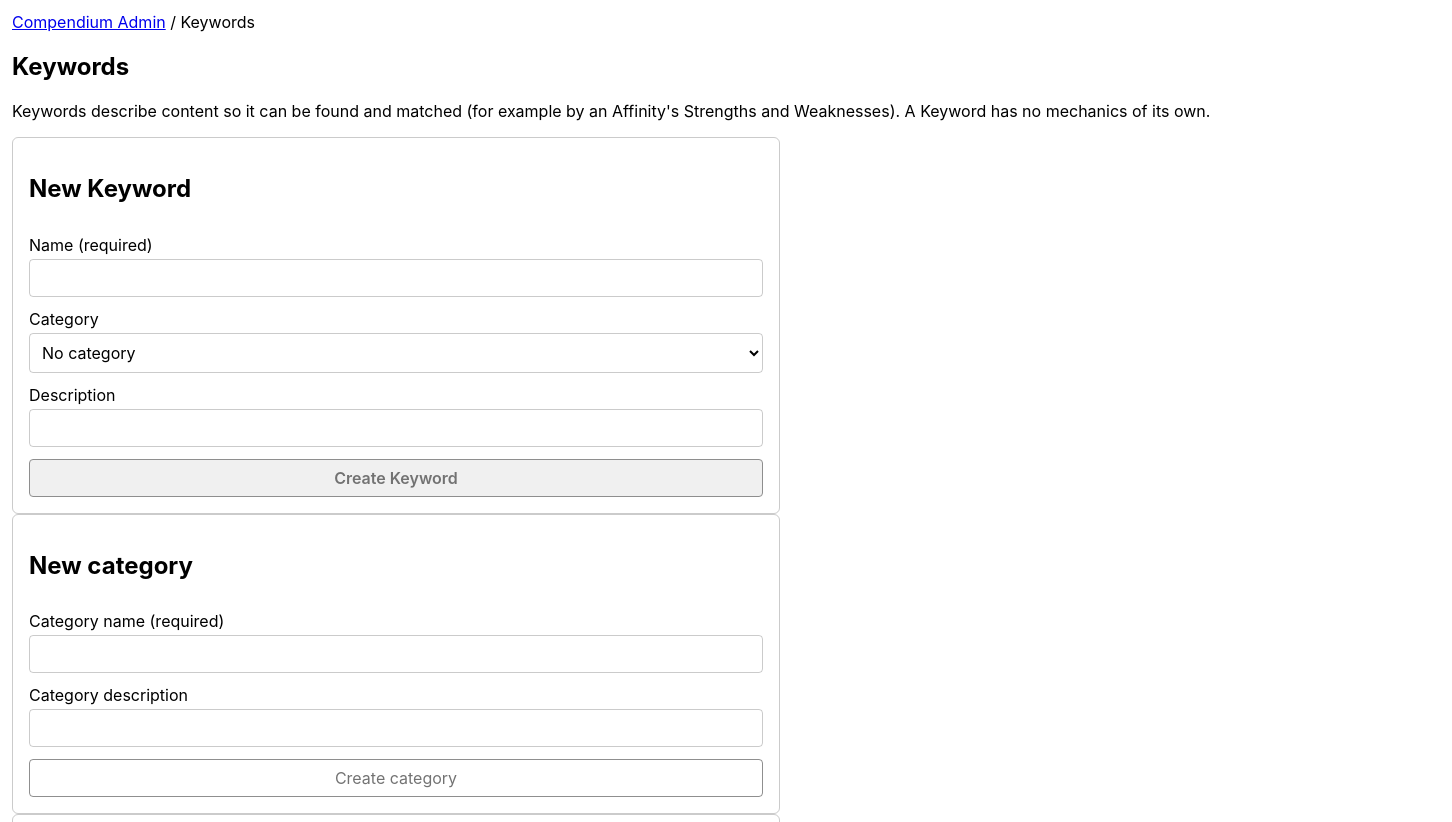
Test: RULES-WO1 Phase C — reference previews and Keywords › shows the Keyword's permanent key before it is created (never set silently, never typed)
This screenshot has width=1452, height=822.
Step 1. Type "Cold Iron" into the field labelled "Name (required)" → (396, 278), box [29,259,763,297]
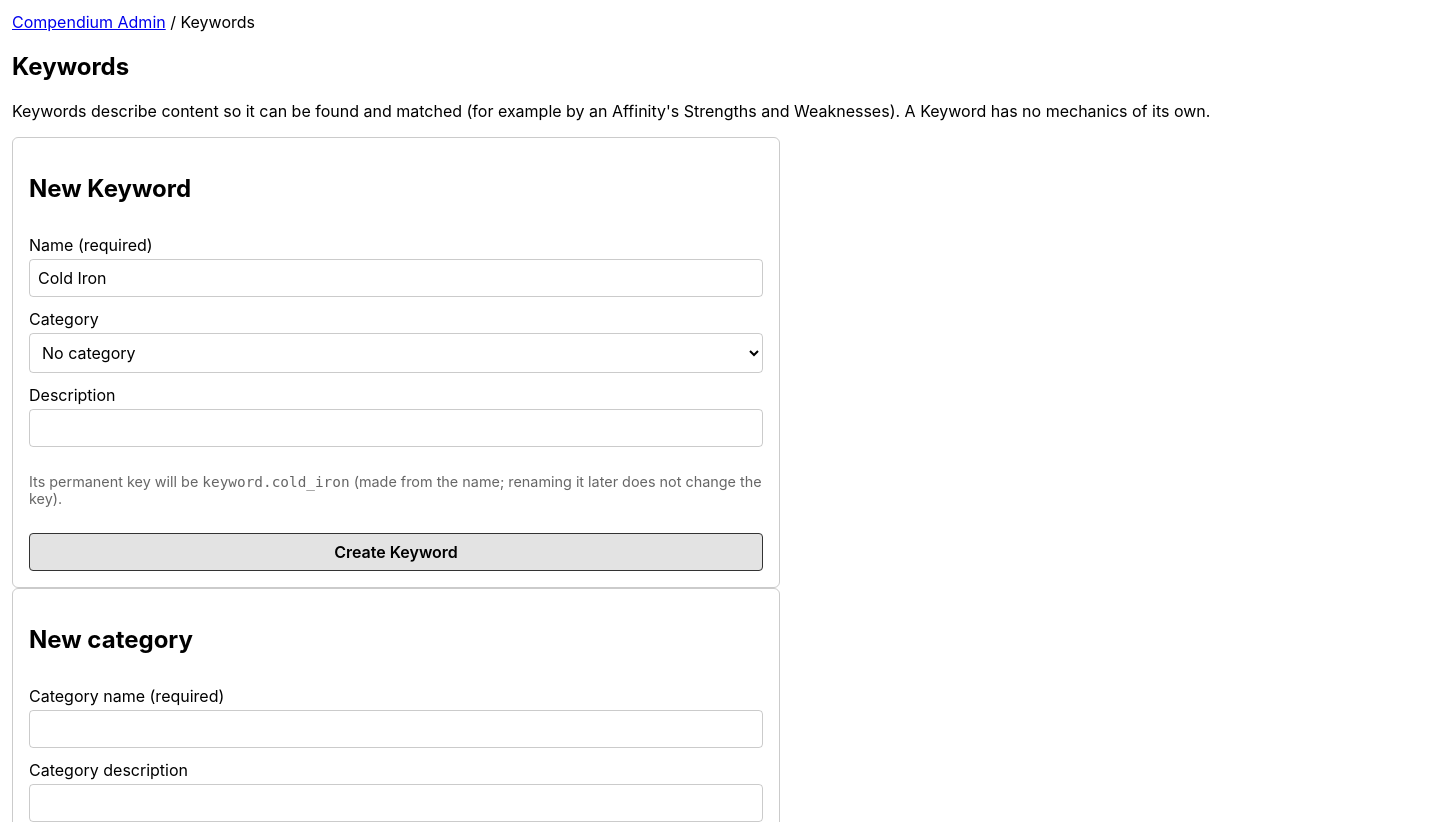
Now the element with test id "keyword-key-preview" shows "keyword.cold_iron", box [202,474,350,490]
